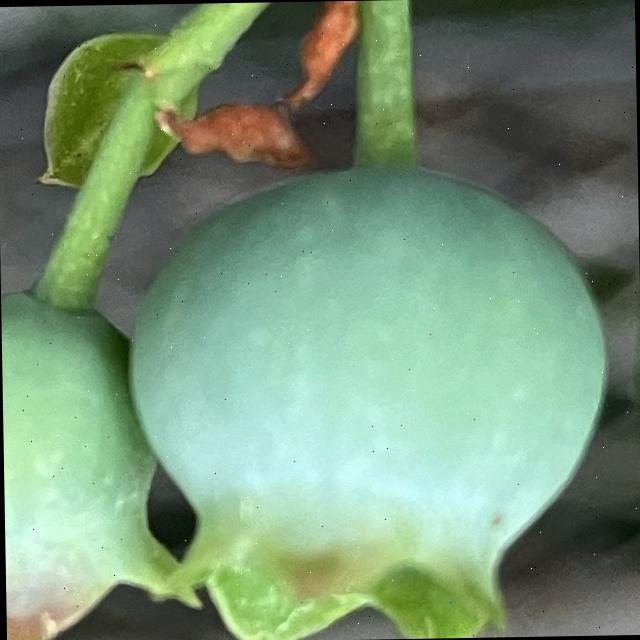Blueberries: (119, 158, 610, 640), (0, 277, 172, 640)
